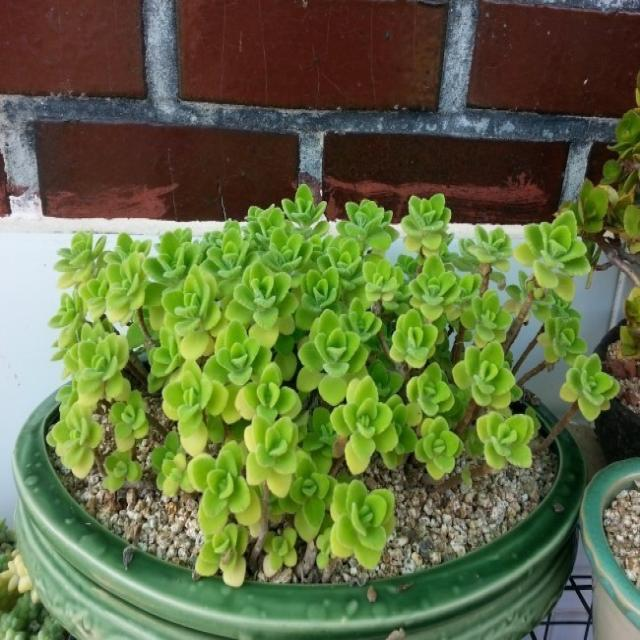Vicks: (188, 440, 261, 536), (330, 375, 399, 474), (298, 309, 369, 405), (514, 212, 590, 301), (162, 360, 229, 455), (225, 262, 298, 346), (161, 265, 221, 360), (330, 479, 394, 568), (204, 320, 271, 386), (244, 415, 298, 496), (46, 402, 102, 478), (452, 342, 515, 408), (560, 354, 620, 420), (235, 362, 301, 421), (78, 334, 130, 405), (202, 220, 249, 296), (476, 410, 535, 468), (336, 199, 398, 254), (409, 255, 460, 321), (144, 229, 201, 286), (415, 415, 464, 480), (401, 194, 451, 256), (106, 252, 148, 323), (460, 290, 512, 346), (150, 430, 194, 496), (389, 309, 438, 368), (54, 232, 104, 288), (295, 267, 339, 330), (406, 362, 455, 416), (109, 390, 149, 451), (318, 237, 362, 291), (262, 227, 312, 273), (538, 318, 586, 362), (281, 184, 326, 229), (468, 225, 512, 269), (340, 297, 382, 342), (362, 259, 404, 303), (102, 450, 141, 491)
